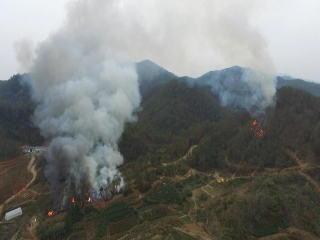smoke: (19, 2, 146, 199), (202, 4, 281, 121)
